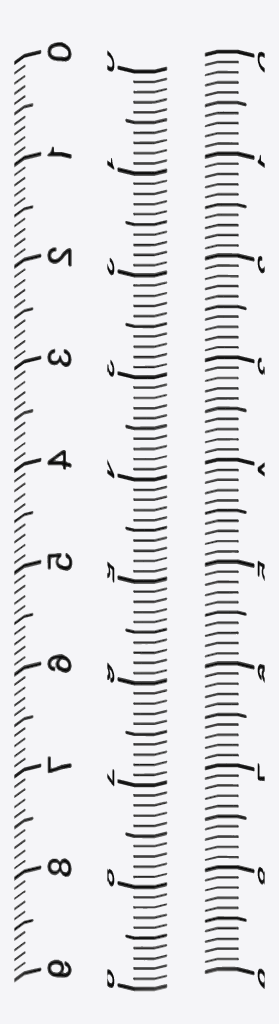
File: SM_G盖勃乳脂计刻度.FBX
The picture shows the model from 3 angles, left to right: view 1: azimuth 30°, elevation 25°; view 2: azimuth 150°, elevation 25°; view 3: azimuth 330°, elevation 25°; orthographic projection.
Visible parts, largest first — view 1: SM_G盖勃乳脂计刻度; view 2: SM_G盖勃乳脂计刻度; view 3: SM_G盖勃乳脂计刻度.
Part boxes in pixels (x1,y1,x2,y2): SM_G盖勃乳脂计刻度: (14,42,72,982); SM_G盖勃乳脂计刻度: (107,50,167,991); SM_G盖勃乳脂计刻度: (204,49,264,988).
Bounding box in the file's own units: 0.6492 × 0.2376 × 9.41.
